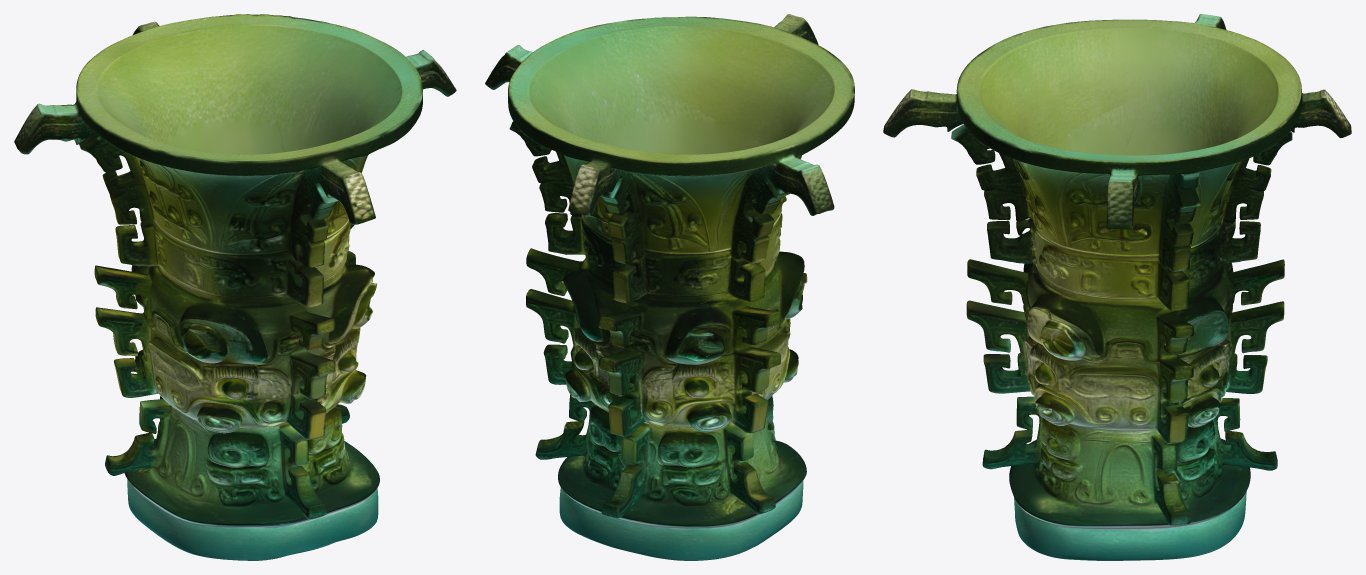
The model's file is hezun.glb.
3 renders of one model, left to right at view 1: azimuth 30°, elevation 25°; view 2: azimuth 150°, elevation 25°; view 3: azimuth 270°, elevation 25°, orthographic.
Bounding box in the file's own units: 0.8552 × 0.8944 × 0.8889.
1 material, 1 textured.
